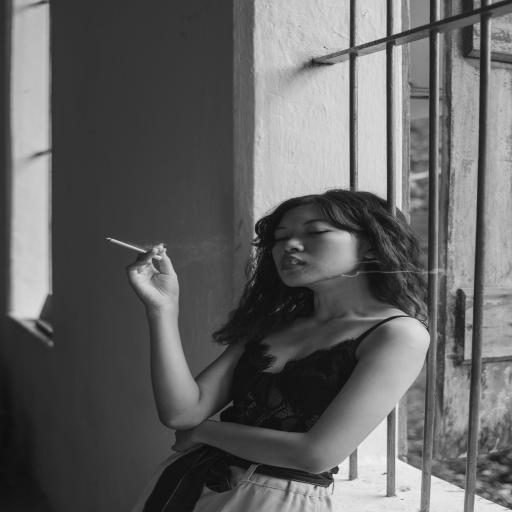terdeteksi pegang rokok: (94, 224, 188, 312)
